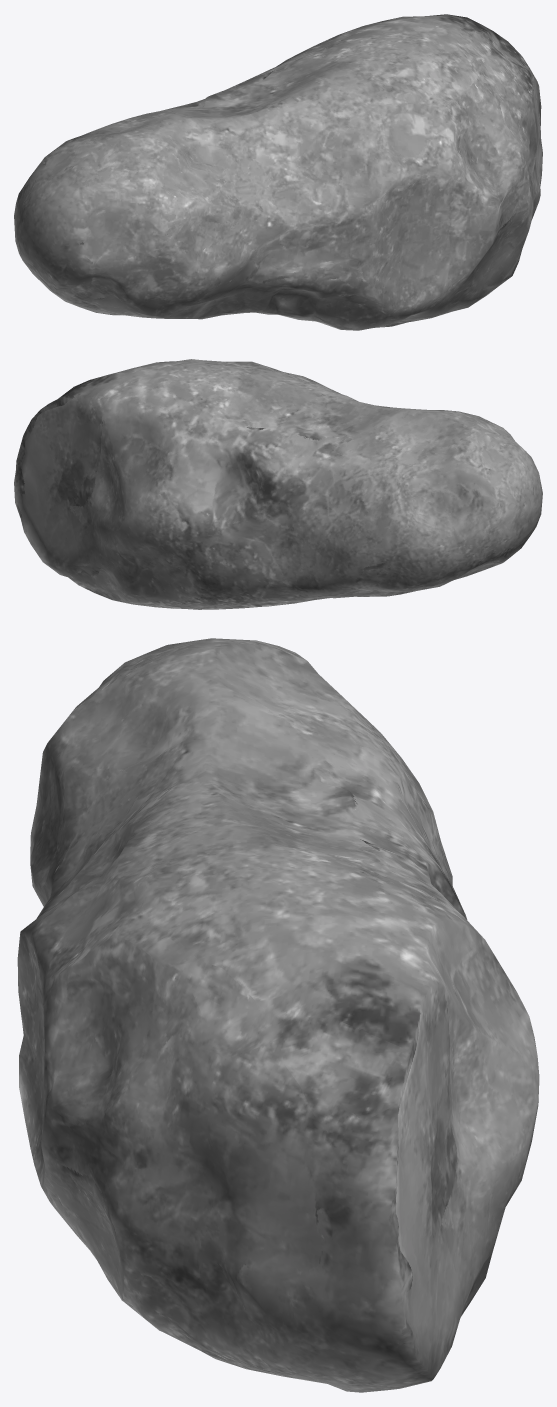
Rendered from rock_02.glb.
3 views of the same model, one above another, from view 1: azimuth 30°, elevation 25°; view 2: azimuth 150°, elevation 25°; view 3: azimuth 270°, elevation 25° (orthographic). The views are drawn at different scales.
Parts seen in each view (by area): view 1: rock_02; view 2: rock_02; view 3: rock_02.
Part boxes in pixels (box(x1,y1,x2,y2)): rock_02: box(14, 14, 542, 330); rock_02: box(14, 359, 542, 609); rock_02: box(17, 638, 539, 1392).
Bounding box in the file's own units: 1.95 × 0.8734 × 0.9284.
Materials: 1 (1 with a texture image).
